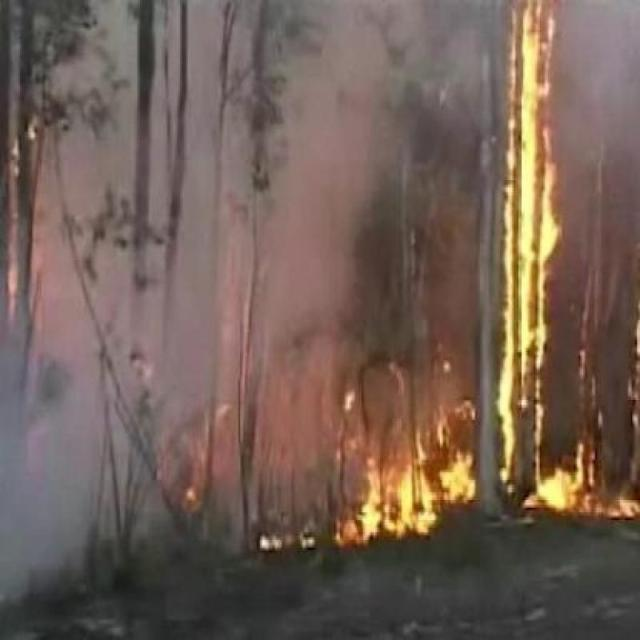Fire: (352, 9, 640, 539)
Smoke: (6, 250, 352, 620)
